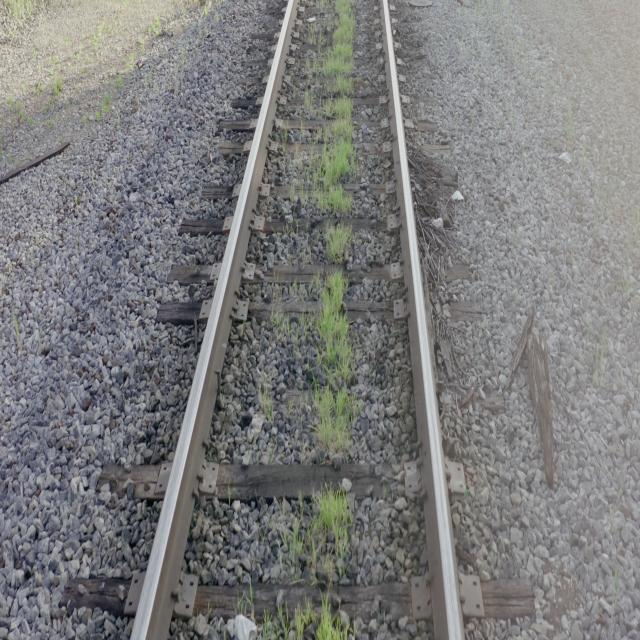Plant: (316, 0, 355, 213), (314, 271, 356, 458), (312, 487, 351, 573), (295, 598, 349, 640), (316, 596, 348, 640), (326, 224, 351, 267)
